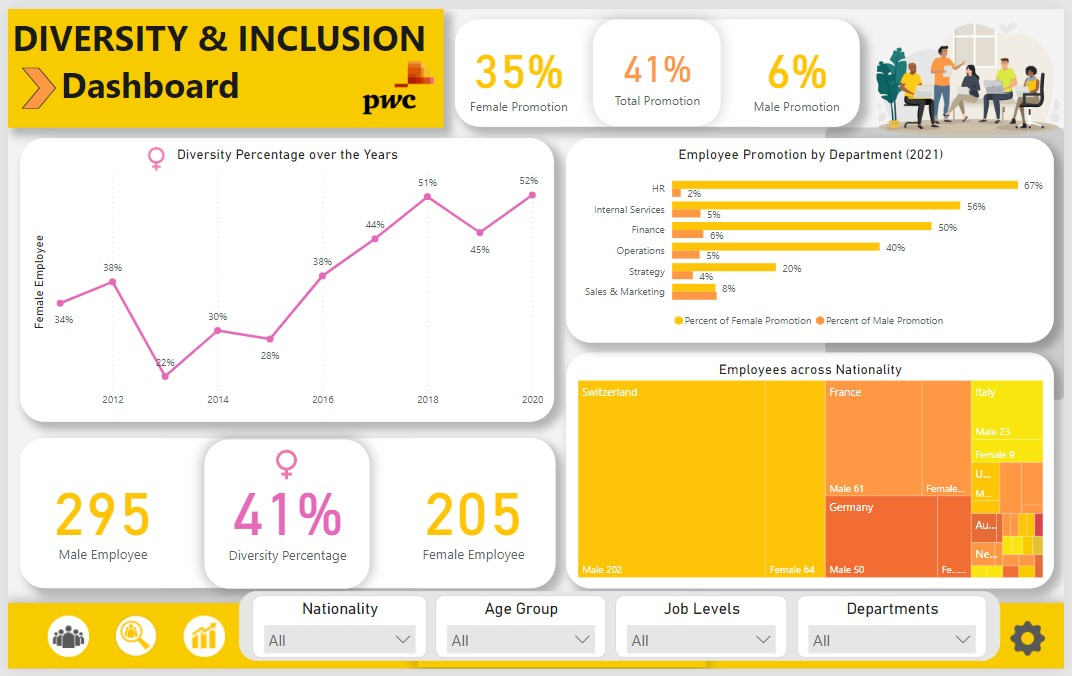

The page's visual inventory and layout, read from the dashboard file:
{"tool":"powerbi","page":{"name":"Diversity","canvas":[1280,800],"ordinal":0},"visuals":[{"type":"shape","box":[16,520,646,182],"z":0},{"type":"shape","box":[990,144,290,330],"z":1000},{"type":"textbox","box":[0,0,528,144],"z":2000},{"type":"shape","box":[542,12,490,130],"z":3000},{"type":"card","fields":{"Values":["Pharma Group AG.Female %"]},"box":[237.3,520.9,200,180.9],"z":4000},{"type":"lineChart","title":"Diversity Percentage over the Years","fields":{"Category":["Pharma Group AG.Last hire date.Variation.Date Hierarchy.Year"],"Y":["Pharma Group AG.Female %"]},"box":[14.3,155.7,647.1,344.3],"z":5000},{"type":"card","fields":{"Values":["Pharma Group AG.Count Female Employees"]},"box":[462.7,520,200,181.8],"z":6000},{"type":"card","fields":{"Values":["Pharma Group AG.Count Male Employees"]},"box":[14.2,520,200,181.7],"z":7000},{"type":"card","fields":{"Values":["Pharma Group AG.Percent of Employees Promoted"]},"box":[709.3,12.7,154.7,129.3],"z":8000},{"type":"image","box":[404,20,138,150],"z":9000},{"type":"shape","box":[16.7,70,42.2,50],"z":10000},{"type":"treemap","title":"Employees across Nationality","fields":{"Group":["Backing 1.Nationality"],"Details":["Backing 1.GENDER"],"Values":["CountNonNull(Backing 1.Employee ID)"]},"box":[676,416,591.3,286],"z":11000},{"type":"textbox","box":[0,720.5,1280.4,79.5],"z":12000},{"type":"clusteredBarChart","title":"Employee Promotion by Department (2021)","fields":{"Category":["Backing 1.FUNCTION"],"Y":["Pharma Group AG.Percent of Female Promotion in 21","Pharma Group AG.Percent of Male Promotion in 21"]},"box":[676,156,591.3,248],"z":13000},{"type":"card","fields":{"Values":["Pharma Group AG.Percent of Male Promotion in 21"]},"box":[878,12.7,154,129.3],"z":14000},{"type":"card","fields":{"Values":["Pharma Group AG.Percent of Female Promotion in 21"]},"box":[542,12.7,153.3,129.3],"z":15000},{"type":"image","box":[313,521,50,60],"z":16000},{"type":"image","box":[154.4,155.6,50,50],"z":17000},{"type":"image","box":[1047.8,0,232.2,170],"z":18000},{"type":"actionButton","box":[30,720,84,80],"z":19000},{"type":"actionButton","box":[112.5,720,83.8,80],"z":20000},{"type":"actionButton","box":[196.2,720,83.8,80],"z":21000},{"type":"actionButton","title":"Settings","box":[1211,734,50,57],"z":22000},{"type":"textbox","box":[496,720,350,78],"z":22500}]}

Visuals, with their boxes in screenshot pixels (x1, y1, x2, y2), scaled from the page's 1280x800 canvas onto the 1072x676 screenshot:
shape: x1=13, y1=439, x2=554, y2=593
shape: x1=829, y1=122, x2=1071, y2=401
textbox: x1=0, y1=0, x2=442, y2=122
shape: x1=454, y1=10, x2=864, y2=120
card - Pharma Group AG.Female %: x1=199, y1=440, x2=366, y2=593
"Diversity Percentage over the Years" lineChart: x1=12, y1=132, x2=554, y2=422
card - Pharma Group AG.Count Female Employees: x1=388, y1=439, x2=555, y2=593
card - Pharma Group AG.Count Male Employees: x1=12, y1=439, x2=179, y2=593
card - Pharma Group AG.Percent of Employees Promoted: x1=594, y1=11, x2=724, y2=120
image: x1=338, y1=17, x2=454, y2=144
shape: x1=14, y1=59, x2=49, y2=101
"Employees across Nationality" treemap: x1=566, y1=352, x2=1061, y2=593
textbox: x1=0, y1=609, x2=1071, y2=675
"Employee Promotion by Department (2021)" clusteredBarChart: x1=566, y1=132, x2=1061, y2=341
card - Pharma Group AG.Percent of Male Promotion in 21: x1=735, y1=11, x2=864, y2=120
card - Pharma Group AG.Percent of Female Promotion in 21: x1=454, y1=11, x2=582, y2=120
image: x1=262, y1=440, x2=304, y2=491
image: x1=129, y1=131, x2=171, y2=174
image: x1=878, y1=0, x2=1071, y2=144
actionButton: x1=25, y1=608, x2=95, y2=675
actionButton: x1=94, y1=608, x2=164, y2=675
actionButton: x1=164, y1=608, x2=234, y2=675
"Settings" actionButton: x1=1014, y1=620, x2=1056, y2=668
textbox: x1=415, y1=608, x2=709, y2=674
